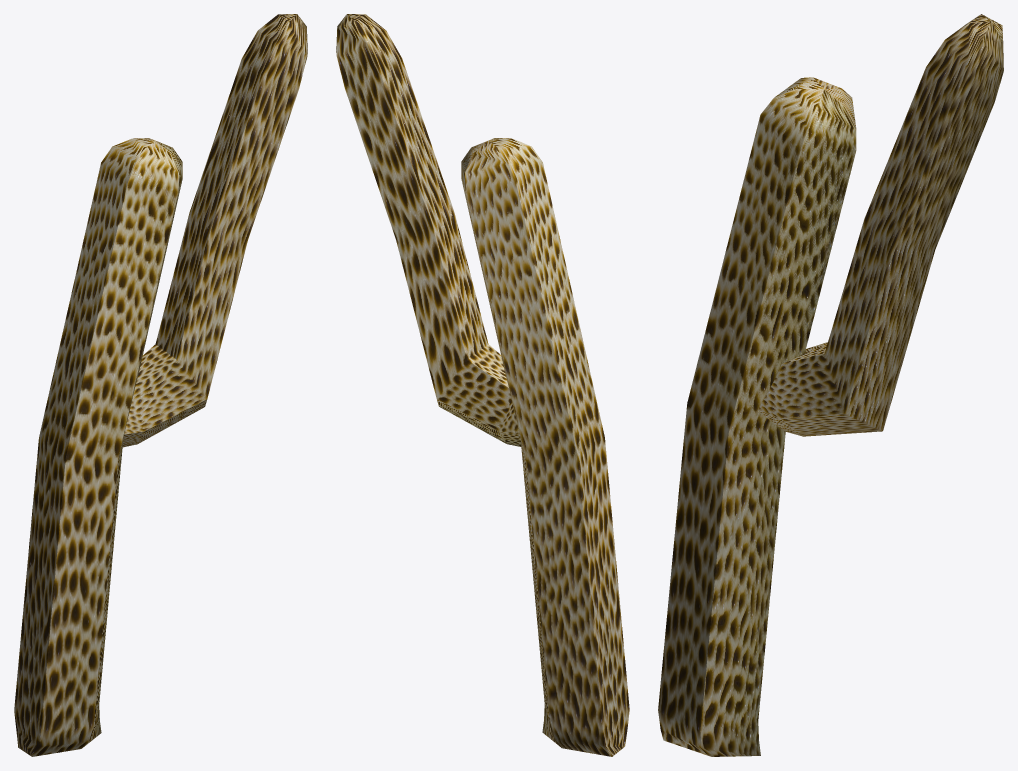
File: half cactus.fbx
The picture shows the model from 3 angles, left to right: view 1: azimuth 30°, elevation 25°; view 2: azimuth 150°, elevation 25°; view 3: azimuth 330°, elevation 25°; orthographic projection. The views are drawn at different scales.
Visible parts, largest first — view 1: long_cactus; view 2: long_cactus; view 3: long_cactus.
Part boxes in pixels (x1,y1,x2,y2): long_cactus: [14, 14, 307, 756]; long_cactus: [336, 14, 629, 756]; long_cactus: [658, 14, 1003, 756].
Size of the model in its own units: 373 by 848 by 99.44.
Materials: 1 (1 with a texture image).
